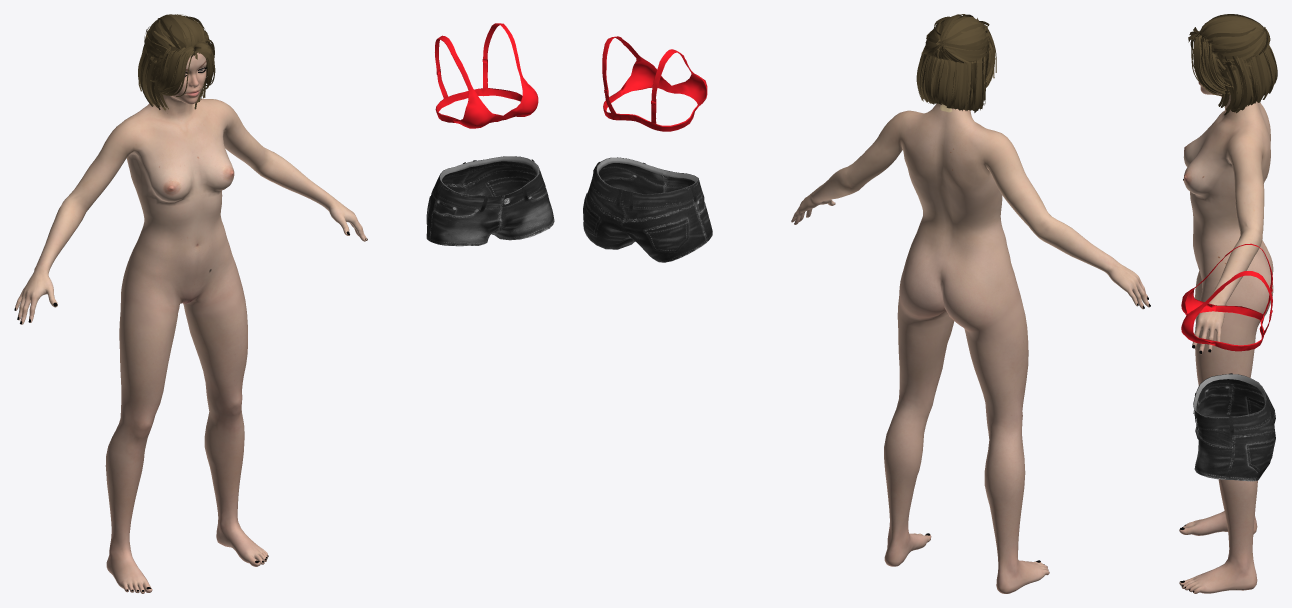
File: naked_girl_better_version.glb
3 views of the same model, side by side, from view 1: azimuth 30°, elevation 25°; view 2: azimuth 150°, elevation 25°; view 3: azimuth 270°, elevation 25° (orthographic).
Visible parts, largest first — view 1: Object_19, Object_17, Object_16, Object_6, Object_2, Object_18, Object_5, Object_4, Object_3; view 2: Object_19, Object_17, Object_16, Object_6, Object_2, Object_3, Object_5, Object_18; view 3: Object_17, Object_6, Object_19, Object_16, Object_5, Object_3, Object_2, Object_4, Object_18.
Part boxes in pixels (x1=…): Object_19: x1=105, y1=288, x2=268, y2=593; Object_17: x1=120, y1=118, x2=242, y2=321; Object_16: x1=15, y1=98, x2=367, y2=324; Object_6: x1=426, y1=156, x2=554, y2=246; Object_2: x1=435, y1=23, x2=538, y2=128; Object_18: x1=140, y1=56, x2=206, y2=133; Object_5: x1=141, y1=14, x2=209, y2=71; Object_4: x1=150, y1=39, x2=215, y2=96; Object_3: x1=138, y1=44, x2=207, y2=110; Object_19: x1=884, y1=299, x2=1049, y2=593; Object_17: x1=899, y1=119, x2=1023, y2=335; Object_16: x1=791, y1=110, x2=1149, y2=309; Object_6: x1=583, y1=157, x2=712, y2=262; Object_2: x1=602, y1=36, x2=707, y2=131; Object_3: x1=916, y1=46, x2=991, y2=112; Object_5: x1=921, y1=14, x2=990, y2=81; Object_18: x1=919, y1=103, x2=982, y2=132; Object_17: x1=1183, y1=103, x2=1273, y2=328; Object_6: x1=1193, y1=373, x2=1275, y2=481; Object_19: x1=1179, y1=279, x2=1257, y2=593; Object_16: x1=1183, y1=103, x2=1268, y2=354; Object_5: x1=1198, y1=14, x2=1270, y2=78; Object_3: x1=1210, y1=45, x2=1277, y2=115; Object_2: x1=1181, y1=243, x2=1272, y2=351; Object_4: x1=1188, y1=27, x2=1233, y2=96; Object_18: x1=1194, y1=70, x2=1262, y2=134.
Bounding box in the file's own units: 2.16 × 2.08 × 0.3404.
20 materials, 8 textured.
